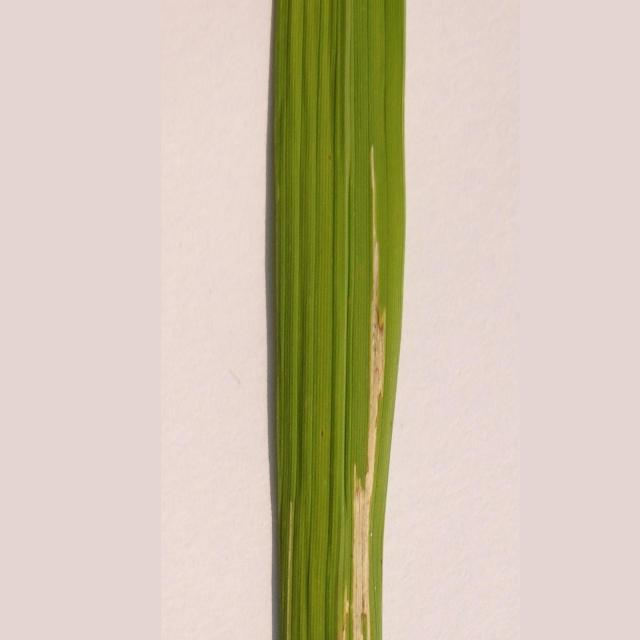leaf blight: (326, 144, 405, 640)
